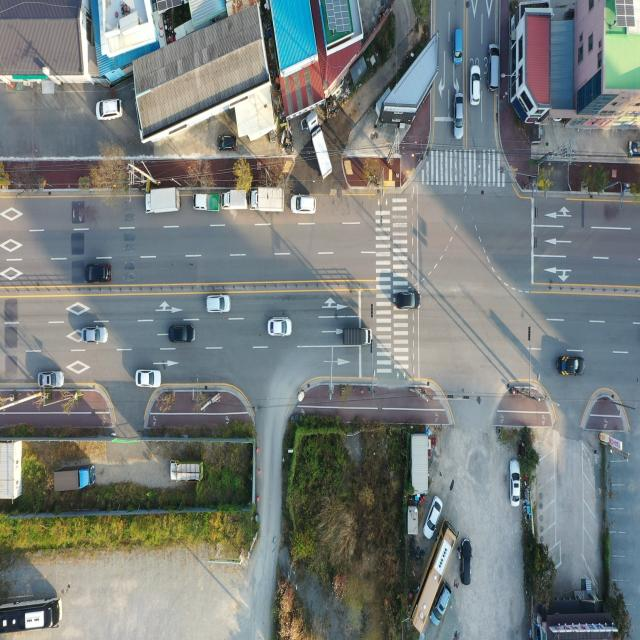car: (430, 584, 452, 630), (486, 41, 500, 94), (425, 500, 442, 540), (95, 98, 123, 121), (292, 194, 318, 215), (460, 539, 472, 583), (86, 265, 112, 285), (558, 356, 584, 376), (269, 317, 293, 338), (169, 324, 194, 344), (396, 290, 421, 310), (454, 93, 464, 140), (207, 294, 231, 313), (135, 369, 160, 387), (83, 326, 108, 344), (38, 372, 63, 389), (470, 67, 480, 108), (217, 136, 239, 154), (454, 27, 464, 66), (512, 468, 522, 506)
large_bus: (412, 522, 460, 631), (0, 597, 64, 640)
medium_truck: (305, 110, 336, 182), (55, 462, 97, 492), (145, 186, 182, 216), (250, 182, 284, 212)
small_truck: (168, 458, 206, 482), (218, 190, 248, 214), (193, 188, 222, 210), (343, 326, 374, 346)
